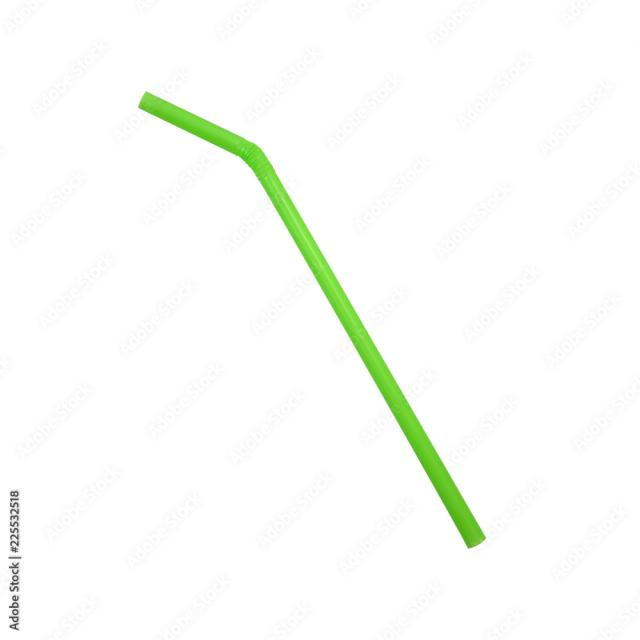plastic: (119, 67, 502, 559)
